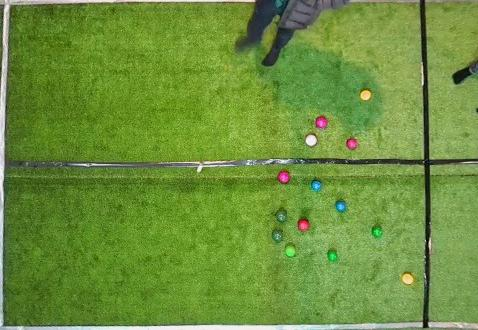blue: (336, 201, 346, 212), (311, 180, 321, 190)
green: (271, 230, 283, 241), (285, 245, 296, 257), (276, 211, 286, 222), (327, 250, 337, 261), (372, 227, 382, 237)
red: (278, 171, 290, 183), (298, 220, 309, 231), (316, 117, 327, 128), (306, 135, 317, 146), (346, 139, 357, 149)
vline: (420, 0, 477, 329), (0, 0, 12, 329)
white: (197, 165, 203, 173)
yellow: (402, 273, 414, 284), (360, 90, 371, 100)
